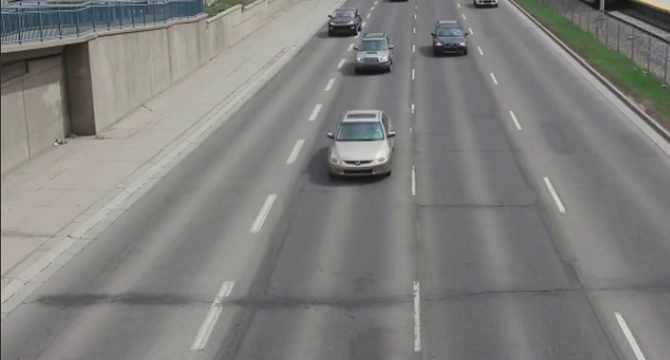car: (328, 104, 396, 182), (431, 16, 471, 56), (358, 33, 396, 72), (326, 6, 361, 38)
